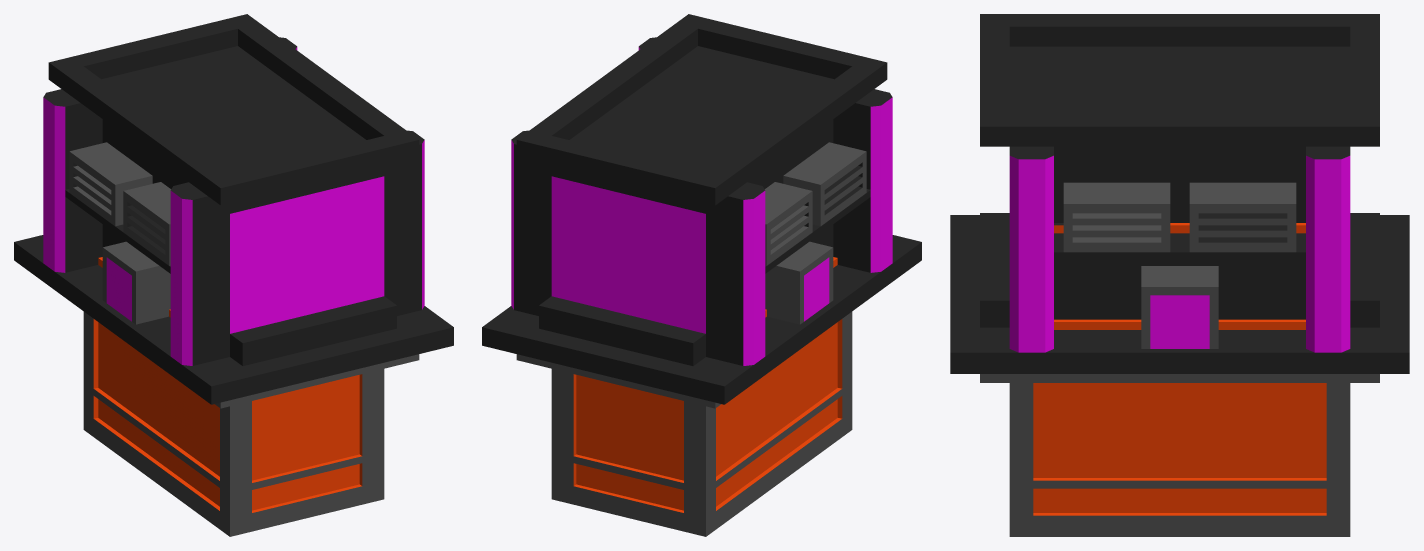
Rendered from Edificio 10.fbx.
3 renders of one model, left to right at view 1: azimuth 30°, elevation 25°; view 2: azimuth 150°, elevation 25°; view 3: azimuth 270°, elevation 25°, orthographic. The views are drawn at different scales.
Parts seen in each view (by area): view 1: Pared 2 [4873], Pared 1 [4870], [4453], Pared 2 [4417], [4637], [4734], [4564]; view 2: Pared 2 [4873], Pared 1 [4560], [4453], Pared 2 [4417], [4564], [4795], [4637]; view 3: Pared 2 [4417], [4453], Pared 1 [4560], Pared 1 [4870], [4734], [4795], [4564], [4637].
Part boxes in pixels (box(x1,y1,x2,y2)): Pared 2 [4873]: box(39, 89, 229, 536); Pared 1 [4870]: box(230, 165, 409, 536); [4453]: box(48, 14, 419, 205); Pared 2 [4417]: box(279, 37, 427, 315); [4637]: box(186, 357, 255, 408); [4734]: box(397, 308, 453, 365); [4564]: box(14, 235, 43, 278); Pared 2 [4873]: box(706, 89, 896, 536); Pared 1 [4560]: box(526, 165, 705, 536); [4453]: box(516, 14, 887, 205); Pared 2 [4417]: box(508, 37, 656, 315); [4564]: box(680, 357, 749, 408); [4795]: box(482, 308, 538, 365); [4637]: box(892, 235, 921, 278); Pared 2 [4417]: box(1009, 146, 1350, 536); [4453]: box(980, 14, 1379, 146); Pared 1 [4560]: box(1350, 213, 1409, 327); Pared 1 [4870]: box(950, 213, 1009, 327); [4734]: box(950, 327, 1009, 382); [4795]: box(1350, 327, 1409, 382); [4564]: box(1380, 215, 1409, 239); [4637]: box(950, 215, 979, 239).
Bounding box in the file's own units: 433 × 610 × 620.
